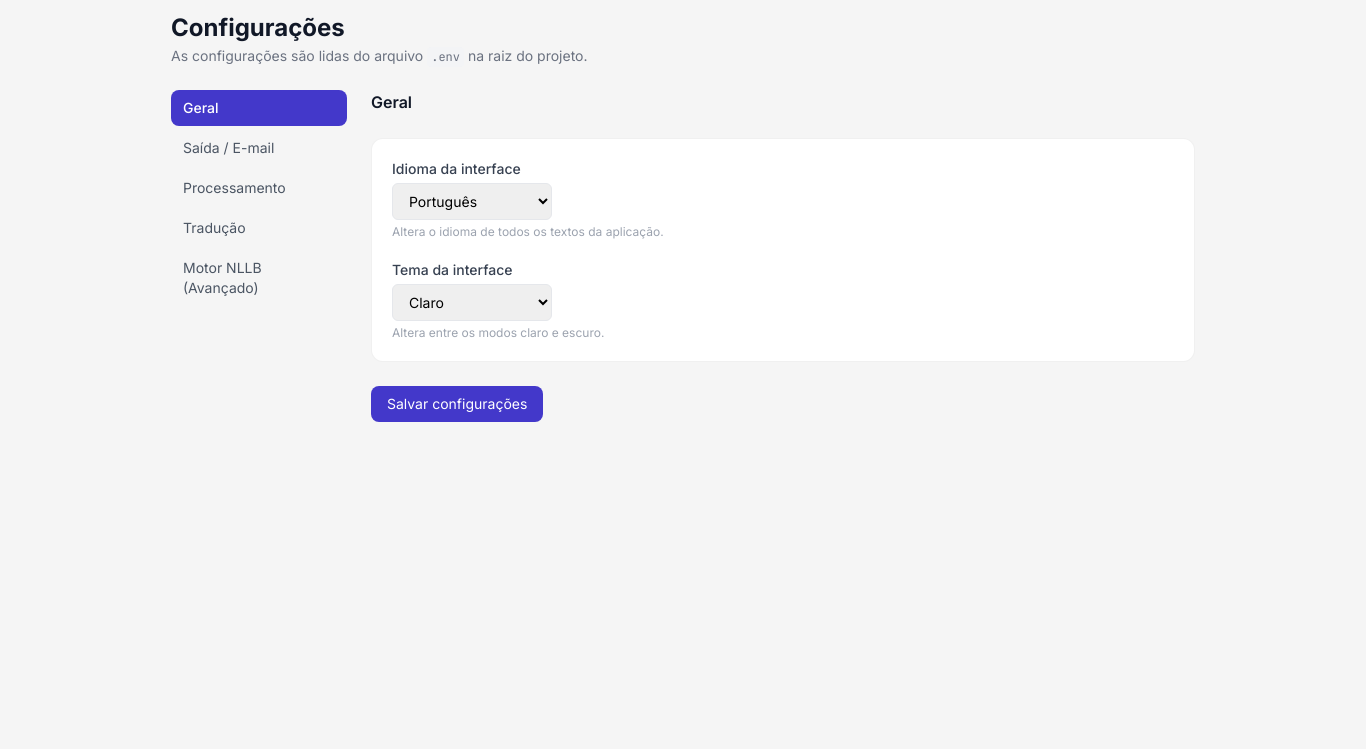
ConfigPage — painel NLLB (Fase C) › exibe banner de aviso quando NLLB habilitado mas modelo indisponível
Step 1. Click the button "Motor NLLB (Avançado)" → point(259, 278), box [171,250,347,306]
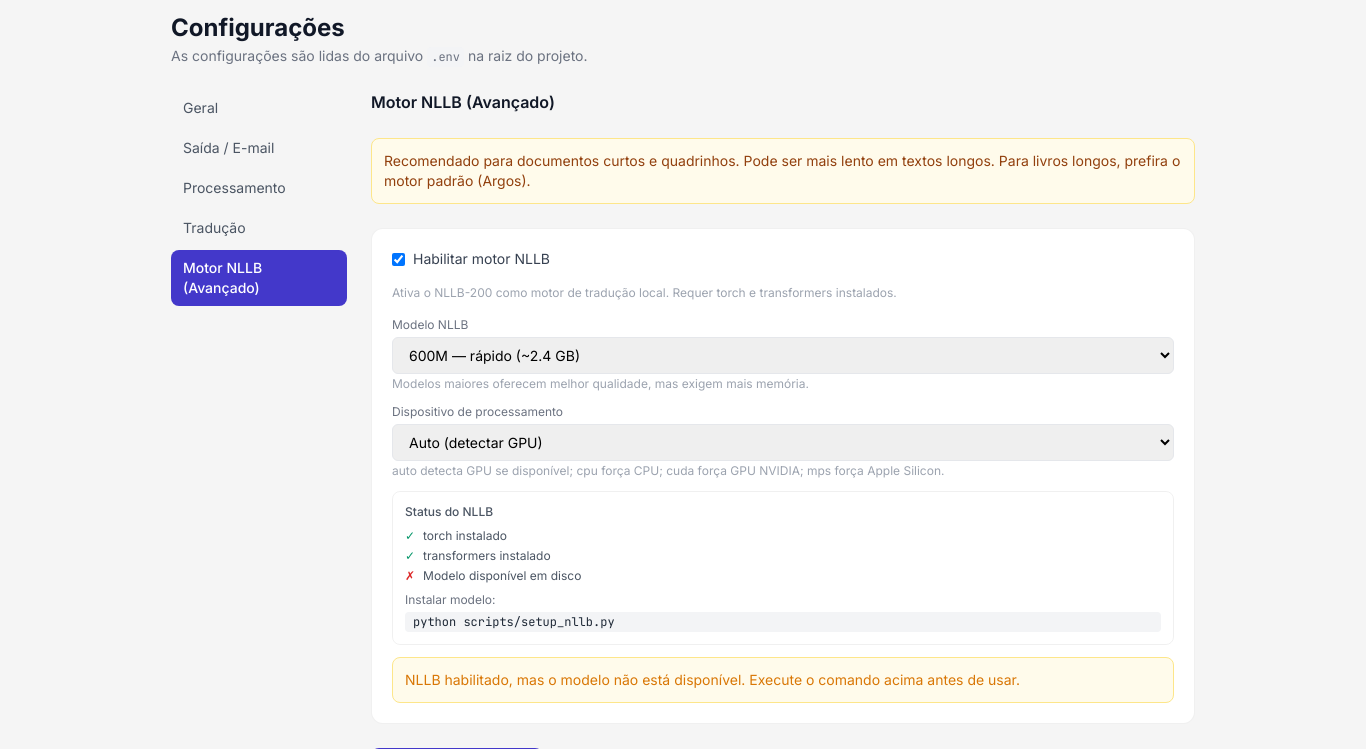
Check: the text "modelo não está disponível" is shown, box [405,671,1020,688]
